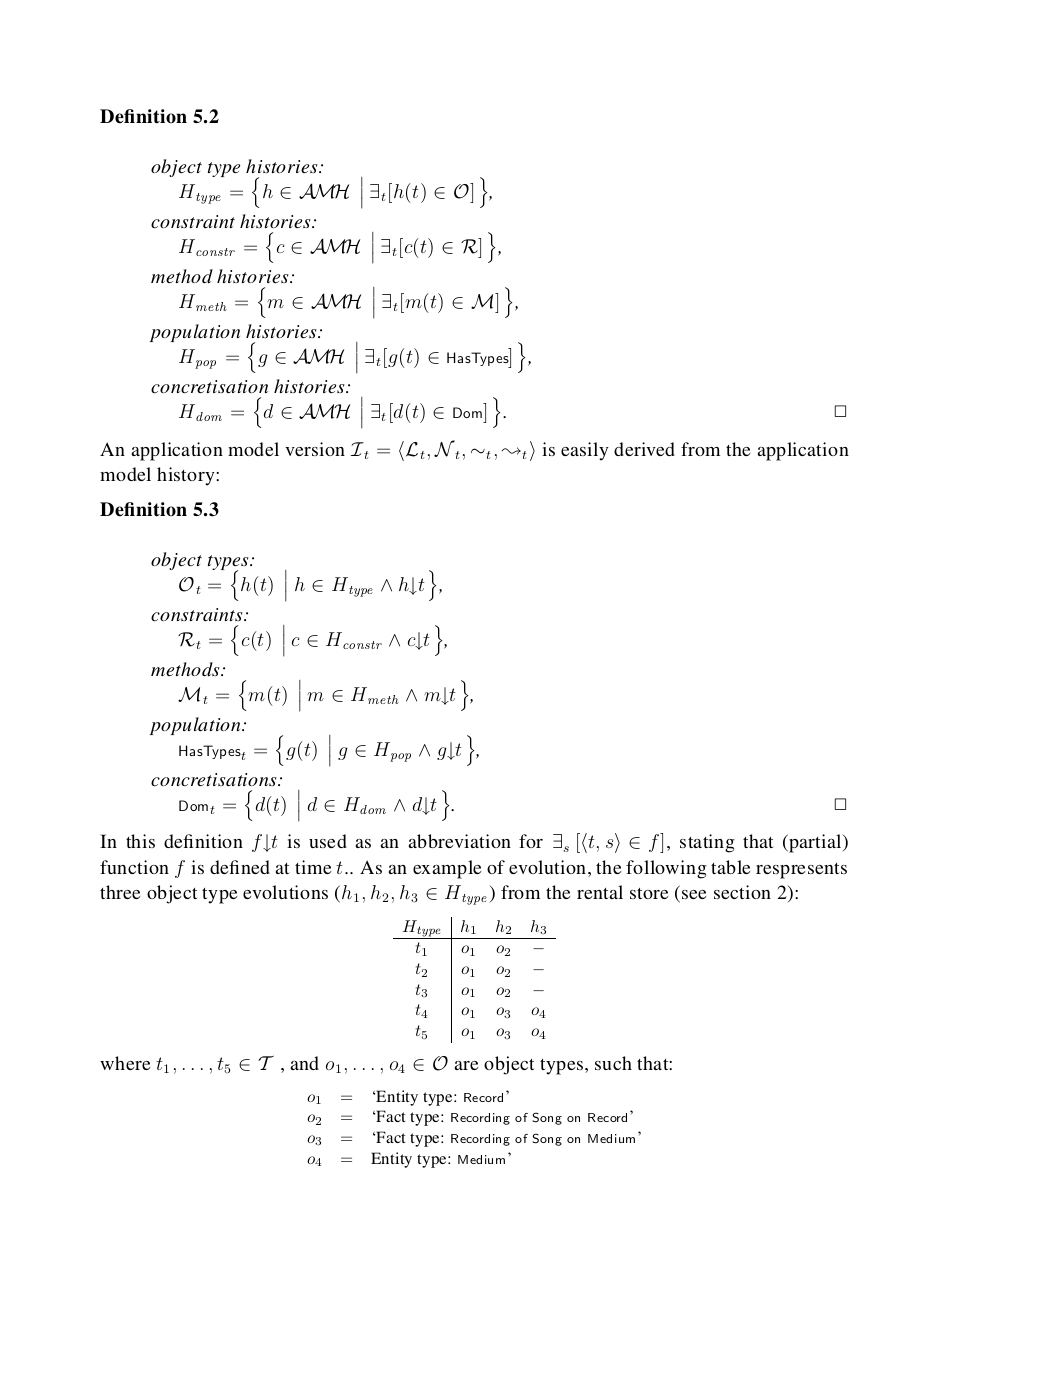Table: (393, 916, 555, 1043)
formula: (179, 395, 846, 429), (179, 788, 846, 822), (179, 285, 517, 319), (179, 230, 500, 264), (179, 343, 530, 373), (178, 678, 473, 712), (179, 178, 491, 208), (178, 623, 446, 658), (179, 736, 478, 766), (179, 571, 441, 601), (306, 1130, 640, 1147), (306, 1109, 632, 1126), (306, 1151, 510, 1168), (306, 1089, 508, 1106)
